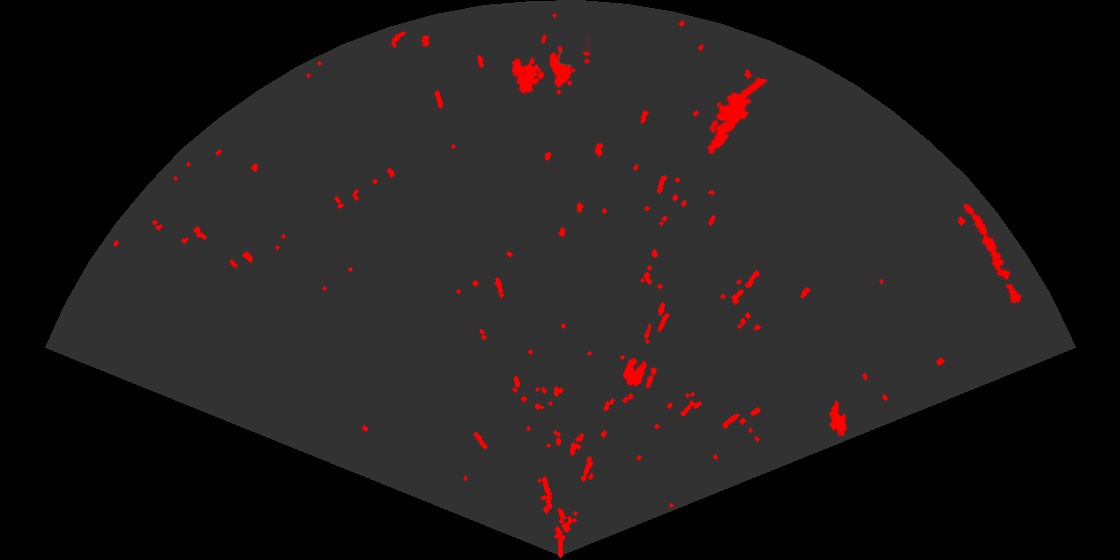AUV: (828, 399, 849, 438)
ball: (621, 356, 658, 390)
cage: (510, 35, 590, 97)
chain: (961, 202, 1024, 305)
frogman: (706, 79, 767, 156)
